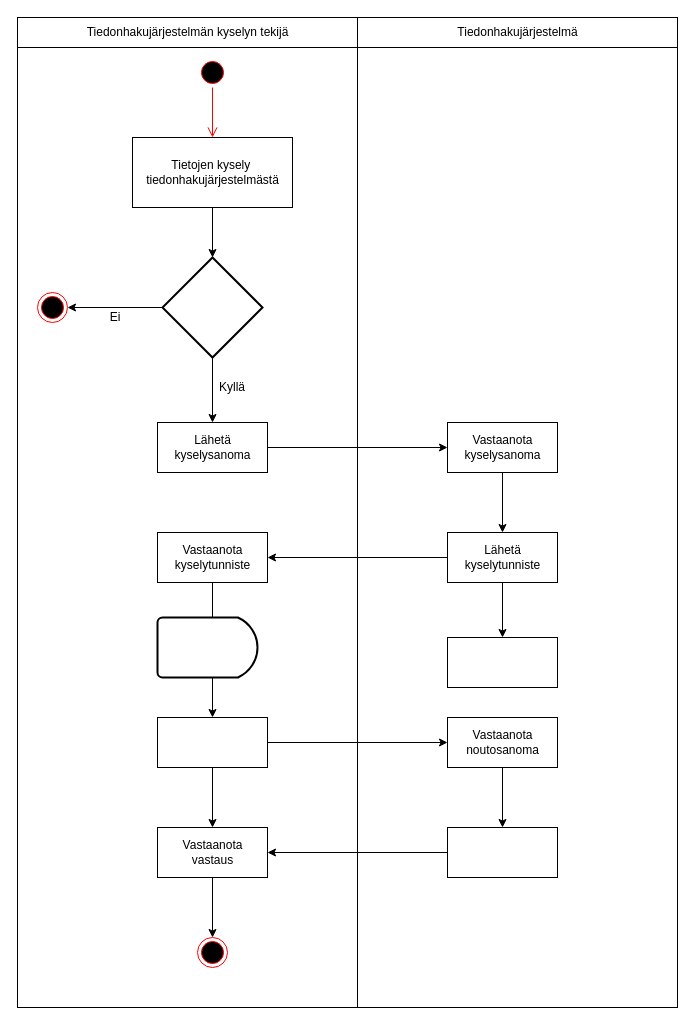
The diagram is 695 pixels wide and 1025 high, and some of its shapes have lost their labels. The shapes that lost their labels are listed below. From the top down, each one's centre as x and y in pixels, then its label:
(212,307): Käyttöoikeus olemassa
(207,647): Odota määritelty aika
(502,662): Aloita vastauksen koostaminen
(212,742): Lähetä noutosanoma sis. kyselytunnisteen
(502,852): Palauta vastaus
